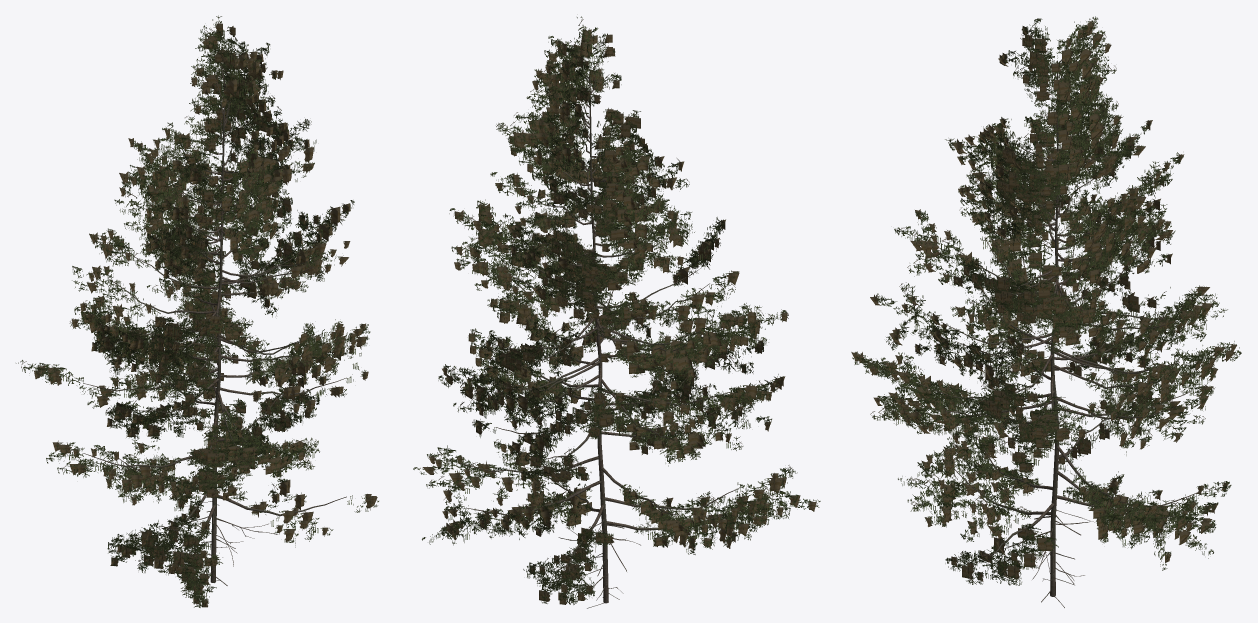
File: evergreen.glb
The picture shows the model from 3 angles, left to right: view 1: azimuth 30°, elevation 25°; view 2: azimuth 150°, elevation 25°; view 3: azimuth 270°, elevation 25°; orthographic projection. The views are drawn at different scales.
Visible parts, largest first — view 1: fir_sapling_medium_a_LOD0; view 2: fir_sapling_medium_a_LOD0; view 3: fir_sapling_medium_a_LOD0.
Part boxes in pixels (x1,y1,x2,y2): fir_sapling_medium_a_LOD0: (16,15,378,607); fir_sapling_medium_a_LOD0: (413,16,820,608); fir_sapling_medium_a_LOD0: (851,16,1241,607).
Bounding box in the file's own units: 3.81 × 6.7 × 4.
3 materials, 3 textured.
